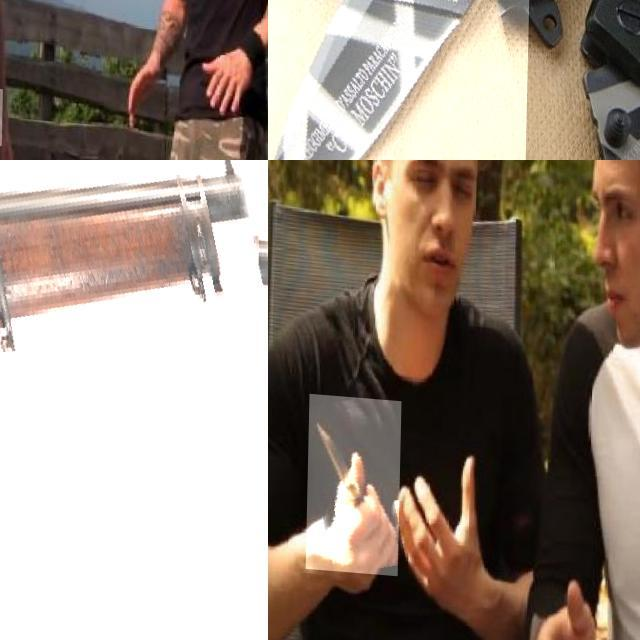-: (268, 0, 532, 160), (308, 392, 404, 574), (0, 79, 41, 141)
gun-knife-thesis - v11 Yolov5 augmented: (0, 160, 268, 640)
